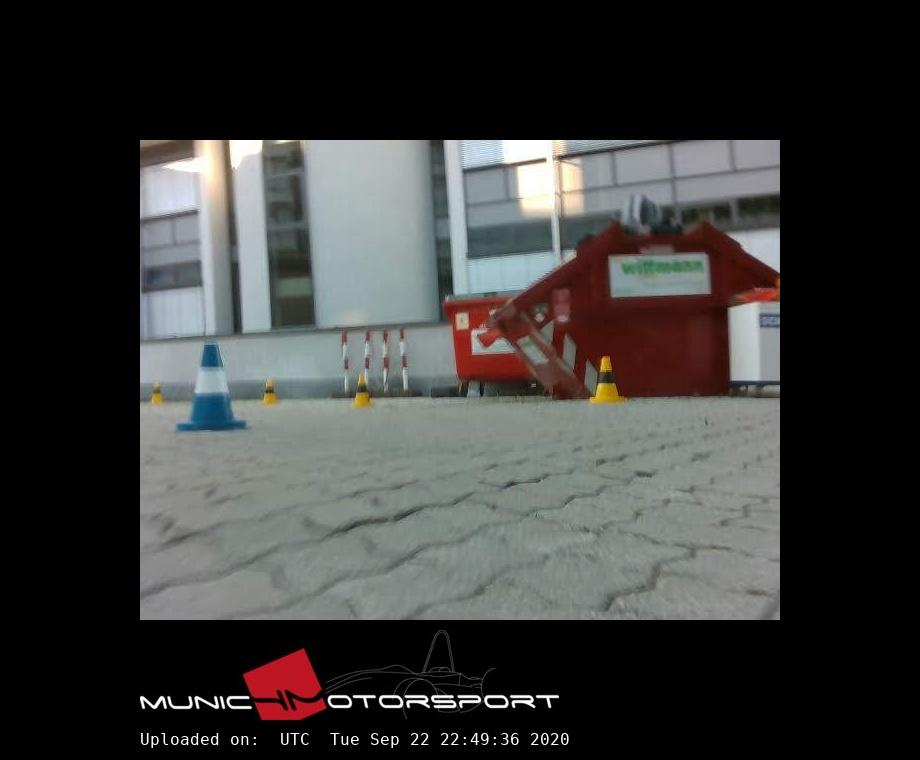blue_cone: (176, 345, 245, 430)
yellow_cone: (590, 356, 627, 403), (353, 375, 373, 408), (262, 379, 277, 404), (150, 381, 164, 403)
